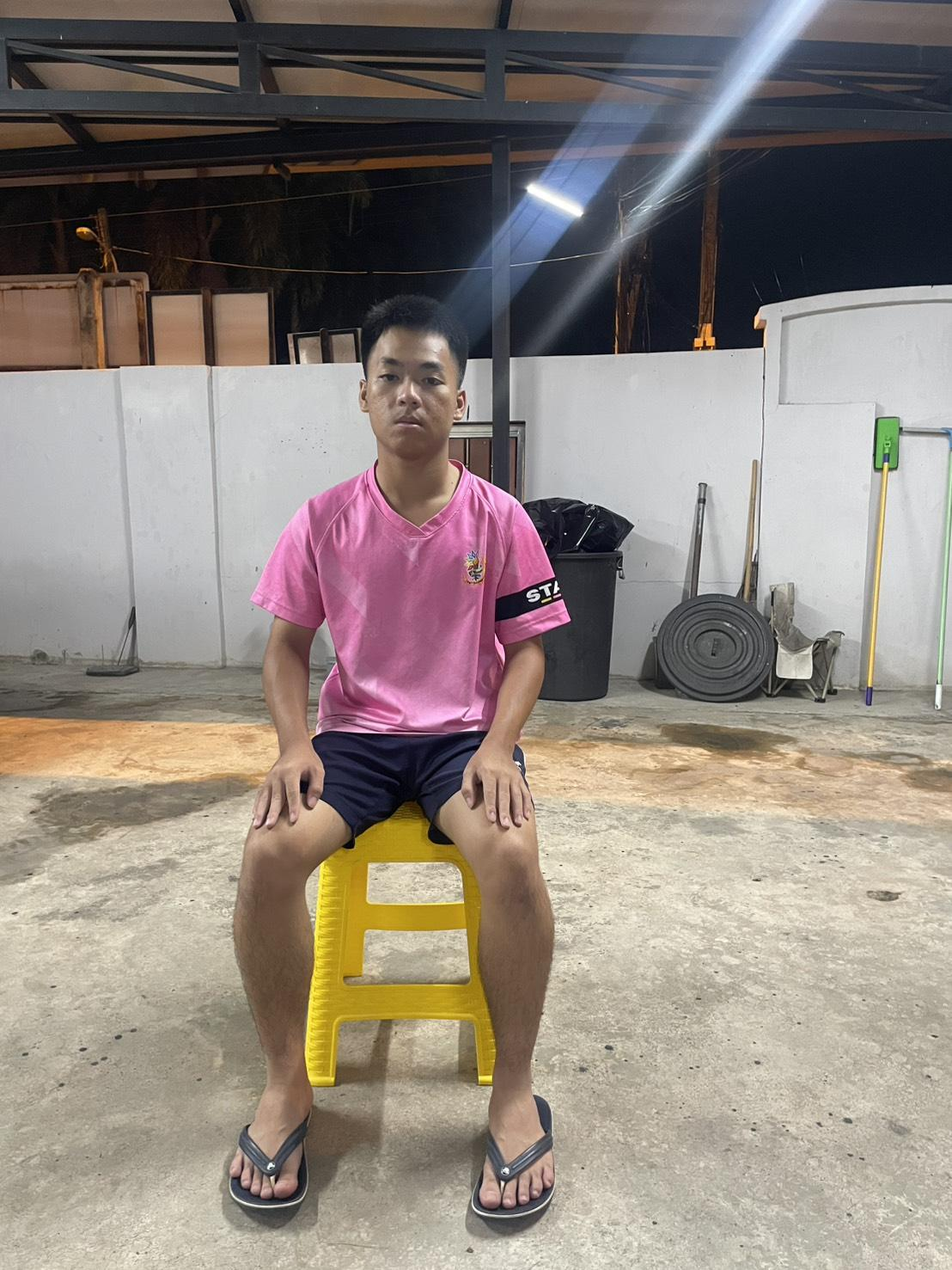GoodPosture: (240, 297, 566, 902), (253, 297, 567, 734), (253, 298, 567, 735)
